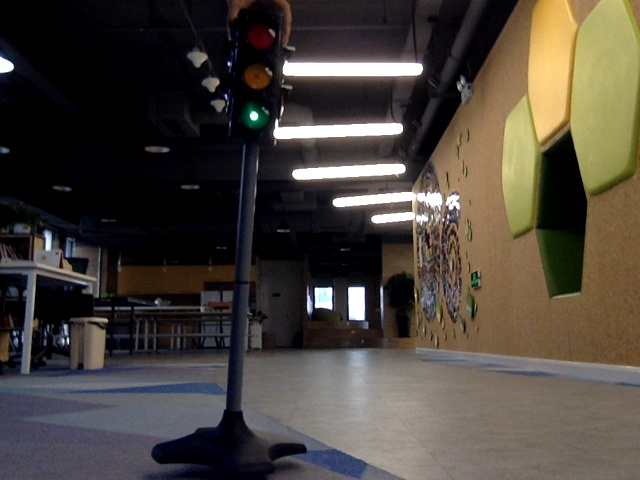green: (239, 23, 276, 131)
